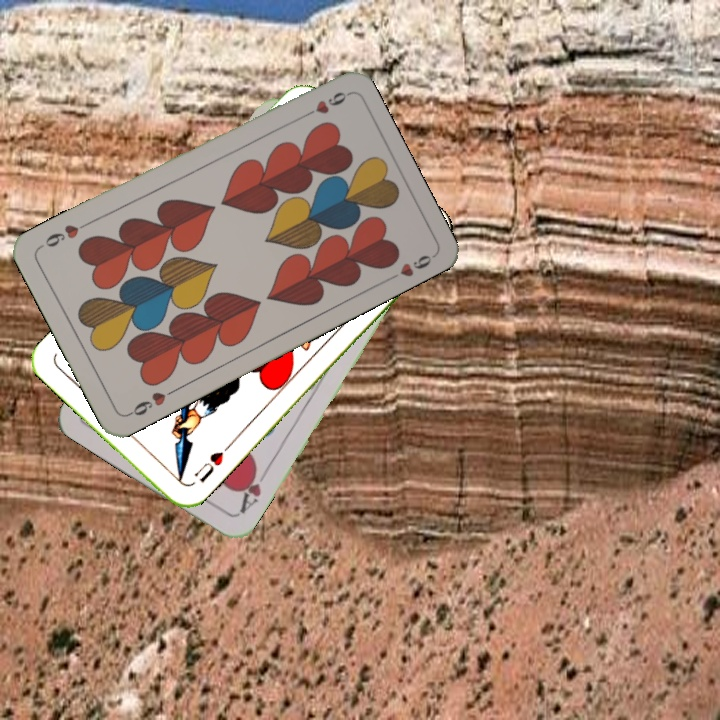H9: (295, 87, 350, 123), (123, 385, 178, 419)
HA: (235, 462, 272, 517)
HU: (189, 447, 226, 485)
